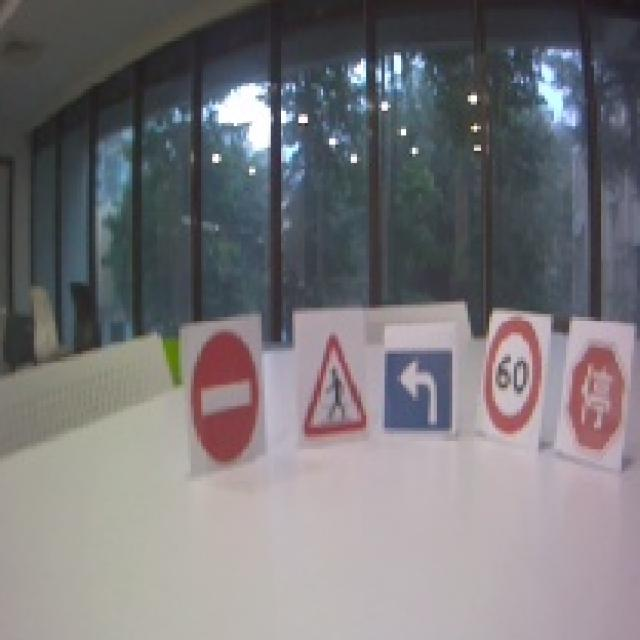DoNotEnterSign: (188, 332, 260, 466)
